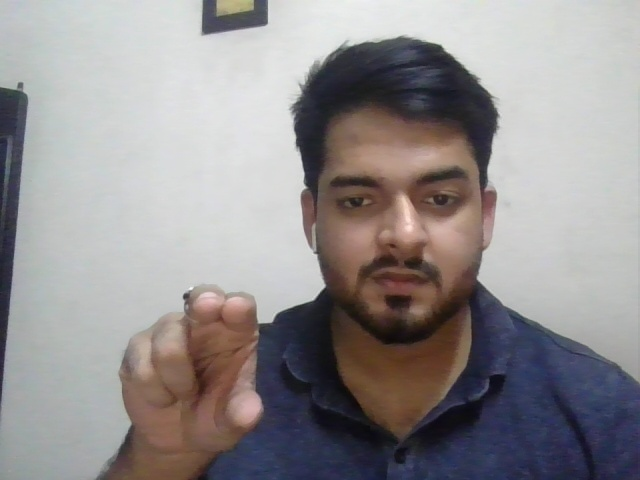no: (118, 283, 266, 461)
